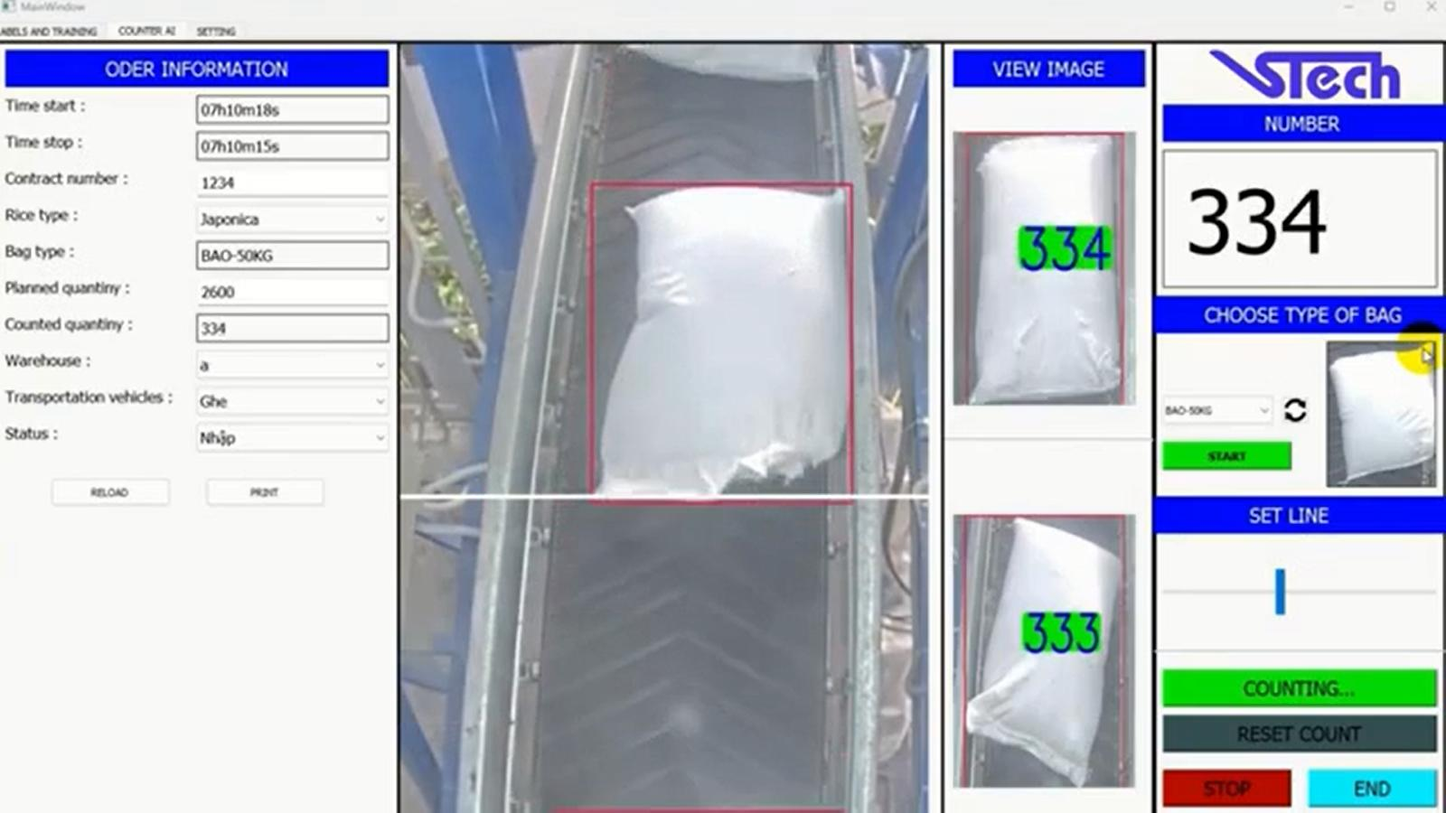rice-bag: (596, 187, 848, 496), (966, 135, 1121, 403), (966, 524, 1117, 785)
